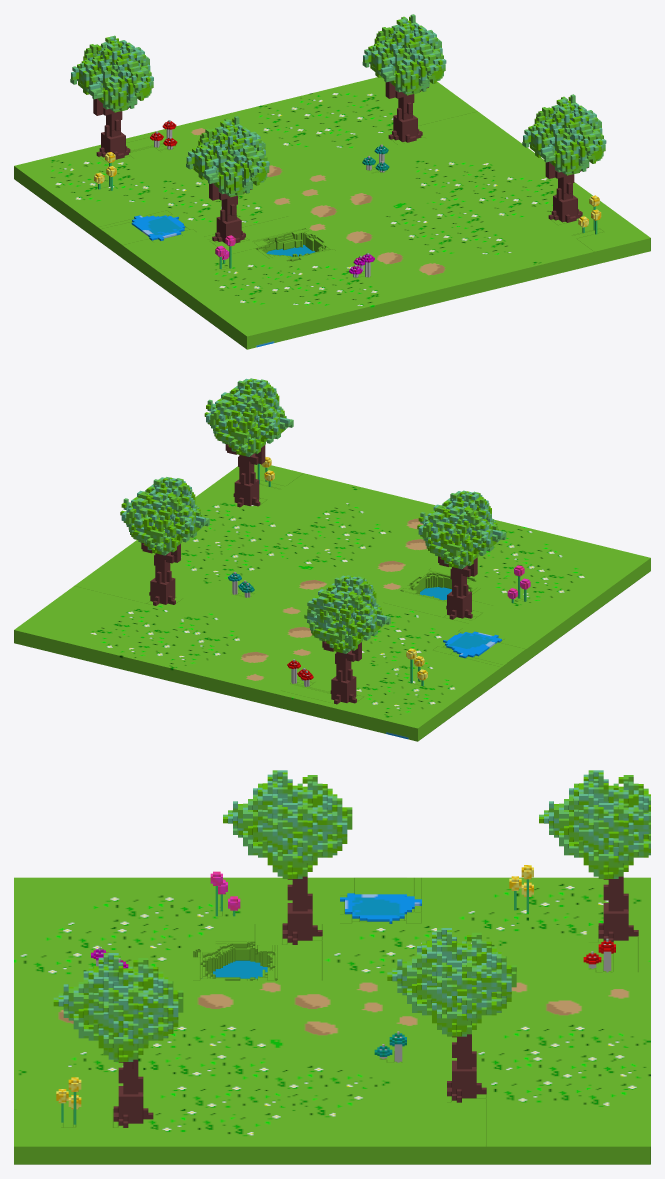
Rendered from Pradera2.obj.
3 views of the same model, one above another, from view 1: azimuth 30°, elevation 25°; view 2: azimuth 150°, elevation 25°; view 3: azimuth 270°, elevation 25° (orthographic). The views are drawn at different scales.
Visible parts, largest first — view 1: Model; view 2: Model; view 3: Model.
Boxes of the visible parts, x1,y1,x2,y2 form: Model: (14, 14, 650, 349); Model: (14, 378, 650, 741); Model: (14, 770, 650, 1164).
Size of the model in its own units: 32 by 9.75 by 32.
Materials: 1 (1 with a texture image).
